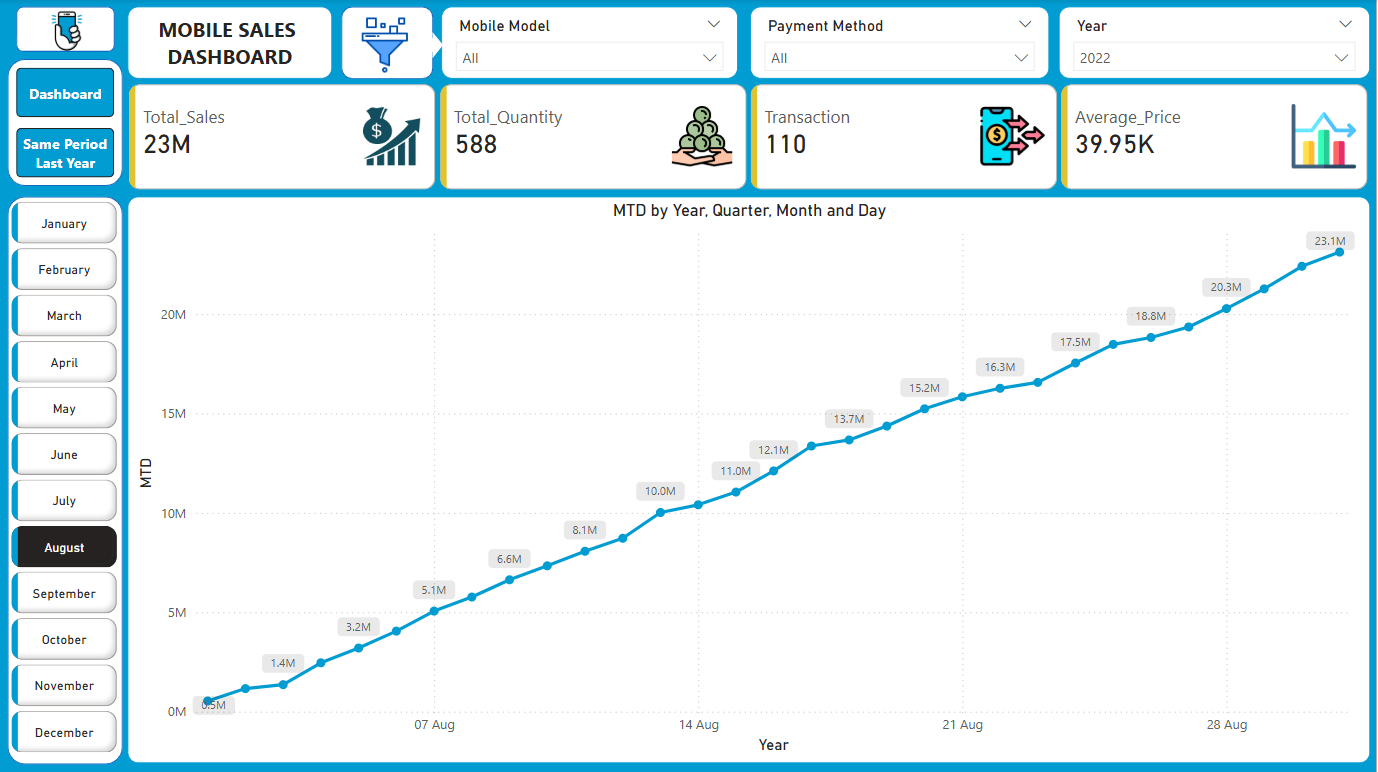

The dashboard page shown, as its layout file describes it:
{"tool":"powerbi","page":{"name":"MTD","canvas":[1280,720],"ordinal":1},"visuals":[{"type":"shape","box":[15.7,7.2,91.7,42.2],"z":0},{"type":"image","box":[6,1.2,112.2,56.7],"z":1000},{"type":"shape","box":[7.2,183.4,107.4,528.4],"z":2000},{"type":"shape","box":[7.2,55.5,107.4,118.2],"z":3000},{"type":"advancedSlicerVisual","fields":{"Values":["Custom_Calendar.Date.Variation.Date Hierarchy.Month"]},"box":[6,183.4,108.6,527.2],"z":4000},{"type":"cardVisual","fields":{"Data":["Sales Data.Total_Sales","Sales Data.Total_Quantity","Sales Data.Transaction","Sales Data.Average_Price"]},"box":[114.6,74.8,1165.4,108.6],"z":5000},{"type":"slicer","fields":{"Values":["Sales Data.Mobile Model"]},"box":[410.2,7.2,276.3,67.6],"z":6000},{"type":"slicer","fields":{"Values":["Sales Data.Payment Method"]},"box":[697.3,7.2,278.7,67.6],"z":7000},{"type":"slicer","fields":{"Values":["Custom_Calendar.Date.Variation.Date Hierarchy.Year"]},"box":[984.5,7.2,289.5,67.6],"z":8000},{"type":"shape","box":[317.3,7.2,85.7,67.6],"z":9000},{"type":"image","box":[326.9,12.1,62.7,62.7],"z":10000},{"type":"shape","box":[392.1,30.2,20.5,25.3],"z":11000},{"type":"shape","box":[118.2,7.2,190.6,67.6],"z":12000},{"type":"textbox","box":[118.2,7.2,190.6,67.6],"z":13000},{"type":"pageNavigator","box":[15.7,63.9,91.7,103.8],"z":14000},{"type":"lineChart","fields":{"Category":["Custom_Calendar.Date.Variation.Date Hierarchy.Year","Custom_Calendar.Date.Variation.Date Hierarchy.Quarter","Custom_Calendar.Date.Variation.Date Hierarchy.Month","Custom_Calendar.Date.Variation.Date Hierarchy.Day"],"Y":["Sales Data.MTD"]},"box":[118.2,183.4,1155.8,527.2],"z":15000}]}

Visuals, with their boxes in screenshot pixels (x1, y1, x2, y2), scaled from the page's 1280x720 canvas onto the 1378x772 screenshot:
shape: bbox=[17, 8, 116, 53]
image: bbox=[6, 1, 127, 62]
shape: bbox=[8, 197, 123, 763]
shape: bbox=[8, 60, 123, 186]
advancedSlicerVisual - Custom_Calendar.Date.Variation.Date Hierarchy.Month: bbox=[6, 197, 123, 762]
cardVisual - Sales Data.Total_Sales x Sales Data.Total_Quantity: bbox=[123, 80, 1377, 197]
slicer - Sales Data.Mobile Model: bbox=[442, 8, 739, 80]
slicer - Sales Data.Payment Method: bbox=[751, 8, 1051, 80]
slicer - Custom_Calendar.Date.Variation.Date Hierarchy.Year: bbox=[1060, 8, 1372, 80]
shape: bbox=[342, 8, 434, 80]
image: bbox=[352, 13, 419, 80]
shape: bbox=[422, 32, 444, 60]
shape: bbox=[127, 8, 332, 80]
textbox: bbox=[127, 8, 332, 80]
pageNavigator: bbox=[17, 69, 116, 180]
lineChart - Custom_Calendar.Date.Variation.Date Hierarchy.Year x Custom_Calendar.Date.Variation.Date Hierarchy.Quarter: bbox=[127, 197, 1372, 762]
